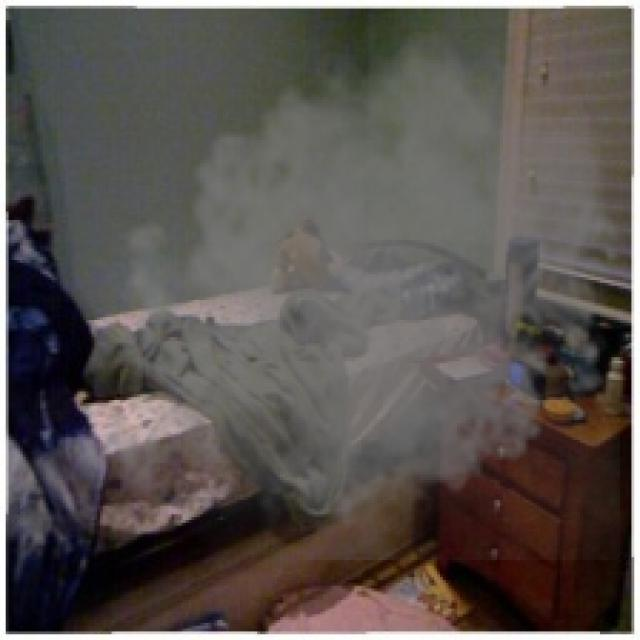smoke: (89, 9, 632, 560)
